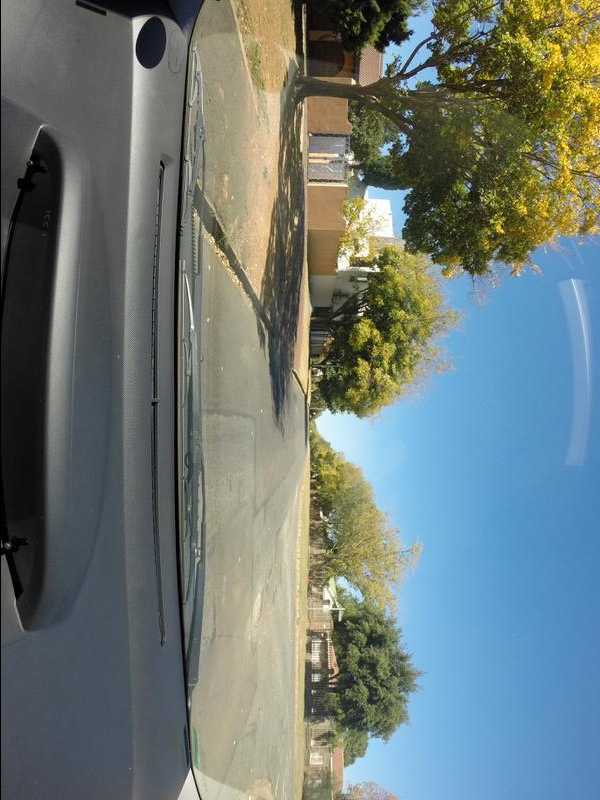pothole: (244, 586, 267, 651)
